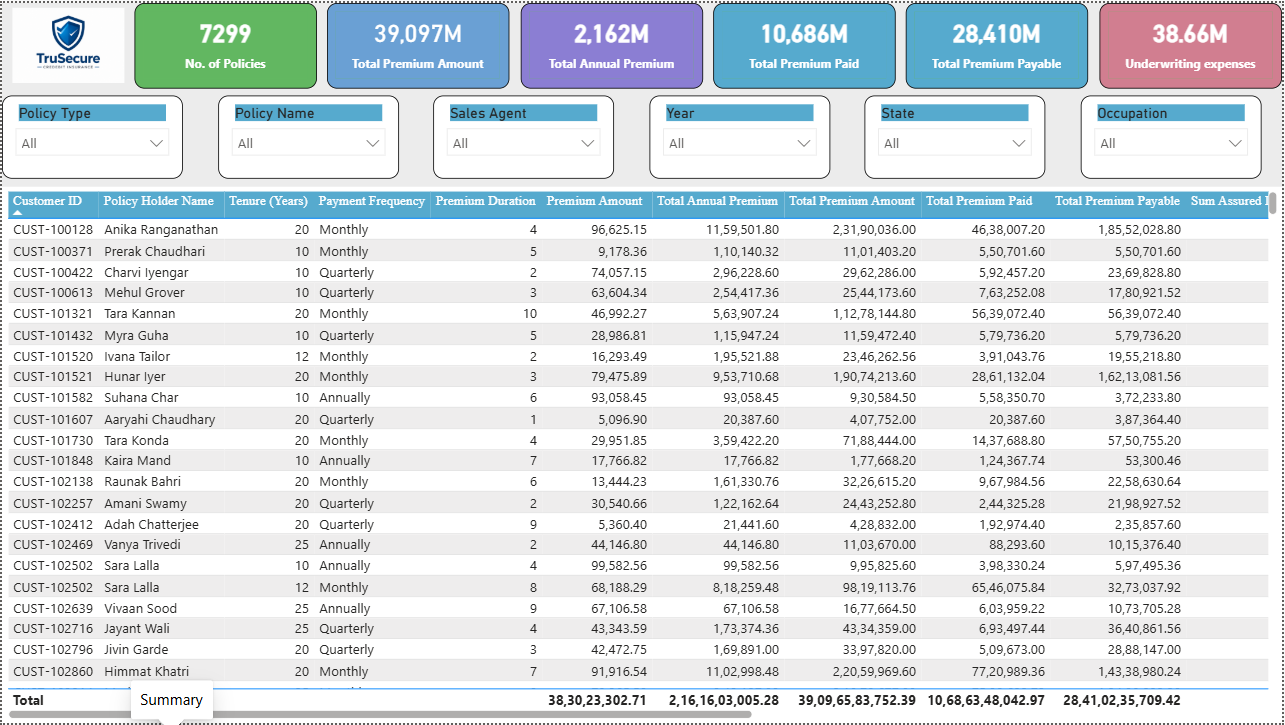

The dashboard page shown, as its layout file describes it:
{"tool":"powerbi","page":{"name":"Summary","canvas":[1280,720],"ordinal":0},"visuals":[{"type":"cardVisual","fields":{"Data":["CountNonNull(DM Customer_Detail_Table.Customer ID)"]},"box":[132.5,0,182,85.6],"z":0},{"type":"cardVisual","fields":{"Data":["Sum(FCT Insurance_Policy_Table.Total Annual Premium)"]},"box":[518.3,0,182.2,85.6],"z":1000},{"type":"cardVisual","fields":{"Data":["Sum(FCT Insurance_Policy_Table.Total Premium Amount)"]},"box":[325.3,0,182.2,85.6],"z":2000},{"type":"cardVisual","fields":{"Data":["Sum(FCT Insurance_Policy_Table.Total Premium Paid)"]},"box":[711.3,0,182.2,85.6],"z":3000},{"type":"cardVisual","fields":{"Data":["Sum(FCT Insurance_Policy_Table.Total Premium Payable)"]},"box":[904.3,0,182.2,85.6],"z":4000},{"type":"cardVisual","fields":{"Data":["Sum(FCT Insurance_Policy_Table.Underwriting expenses)"]},"box":[1097.3,0,182.2,85.6],"z":5000},{"type":"tableEx","fields":{"Values":["DM Customer_Detail_Table.Customer ID","DM Customer_Detail_Table.Policy Holder Name","FCT Insurance_Policy_Table.Tenure (Years)","FCT Insurance_Policy_Table.Payment Frequency","FCT Insurance_Policy_Table.Premium Payment Duration","Sum(FCT Insurance_Policy_Table.Premium Amount)","Sum(FCT Insurance_Policy_Table.Total Annual Premium)","Sum(FCT Insurance_Policy_Table.Total Premium Amount)","Sum(FCT Insurance_Policy_Table.Total Premium Paid)","Sum(FCT Insurance_Policy_Table.Total Premium Payable)","Sum(FCT Insurance_Policy_Table.Sum Assured INR/Coverage Amount)","Sum(FCT Insurance_Policy_Table.Maturity Amount)"]},"box":[0,183.4,1280.3,536.8],"z":6000},{"type":"slicer","fields":{"Values":["DM Policy_Type.Policy Type"]},"box":[0,93.1,181,83.2],"z":7000},{"type":"slicer","fields":{"Values":["DM Policy_Protection_Plan.Policy Name"]},"box":[215.7,93.1,181,83.2],"z":8000},{"type":"slicer","fields":{"Values":["DM Insurance_Agent_Table.Sales Agent"]},"box":[431.4,93.1,181,83.2],"z":9000},{"type":"slicer","fields":{"Values":["FCT Insurance_Policy_Table.Start Date.Variation.Date Hierarchy.Year"]},"box":[647.1,93.1,181,83.2],"z":10000},{"type":"slicer","fields":{"Values":["DM Customer_Detail_Table.State"]},"box":[862.8,93.1,181,83.2],"z":11000},{"type":"slicer","fields":{"Values":["DM Customer_Detail_Table.Occupation"]},"box":[1078.5,93.1,181,83.2],"z":12000},{"type":"image","box":[0,0,132.5,85],"z":13000}]}

Visuals, with their boxes in screenshot pixels (x1, y1, x2, y2), scaled from the page's 1280x720 canvas onto the 1285x725 screenshot:
cardVisual - CountNonNull(DM Customer_Detail_Table.Customer ID): (133, 0, 316, 86)
cardVisual - Sum(FCT Insurance_Policy_Table.Total Annual Premium): (520, 0, 703, 86)
cardVisual - Sum(FCT Insurance_Policy_Table.Total Premium Amount): (327, 0, 509, 86)
cardVisual - Sum(FCT Insurance_Policy_Table.Total Premium Paid): (714, 0, 897, 86)
cardVisual - Sum(FCT Insurance_Policy_Table.Total Premium Payable): (908, 0, 1091, 86)
cardVisual - Sum(FCT Insurance_Policy_Table.Underwriting expenses): (1102, 0, 1284, 86)
tableEx - DM Customer_Detail_Table.Customer ID x DM Customer_Detail_Table.Policy Holder Name: (0, 185, 1284, 724)
slicer - DM Policy_Type.Policy Type: (0, 94, 182, 178)
slicer - DM Policy_Protection_Plan.Policy Name: (217, 94, 398, 178)
slicer - DM Insurance_Agent_Table.Sales Agent: (433, 94, 615, 178)
slicer - FCT Insurance_Policy_Table.Start Date.Variation.Date Hierarchy.Year: (650, 94, 831, 178)
slicer - DM Customer_Detail_Table.State: (866, 94, 1048, 178)
slicer - DM Customer_Detail_Table.Occupation: (1083, 94, 1264, 178)
image: (0, 0, 133, 86)
